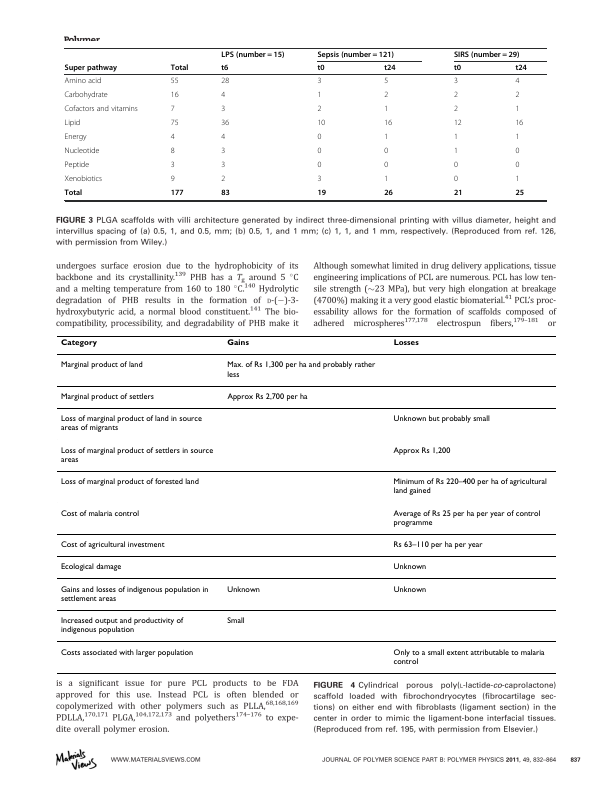borderless: (56, 334, 556, 673), (63, 46, 546, 200)
cell: (59, 446, 214, 465), (392, 477, 547, 496), (392, 648, 545, 667), (226, 361, 376, 380), (59, 585, 209, 604), (392, 509, 541, 528), (59, 414, 202, 433), (59, 616, 184, 635), (59, 477, 199, 487), (59, 648, 194, 658), (59, 540, 165, 550), (392, 414, 490, 424), (59, 392, 154, 402), (392, 540, 483, 550), (226, 392, 308, 402), (59, 509, 140, 519), (59, 361, 143, 370), (64, 104, 139, 114), (316, 50, 395, 59), (453, 50, 520, 59), (392, 446, 451, 456), (220, 50, 285, 59), (59, 563, 122, 572), (64, 63, 118, 73), (64, 90, 109, 100), (64, 174, 103, 184), (64, 76, 102, 86), (64, 146, 100, 156), (392, 585, 427, 595), (59, 339, 97, 348), (226, 585, 260, 595), (392, 563, 427, 572), (64, 160, 90, 170), (392, 339, 419, 348), (64, 132, 87, 142), (226, 339, 249, 348), (226, 616, 245, 626), (170, 63, 189, 73), (64, 188, 83, 198), (64, 118, 81, 128), (383, 63, 397, 73), (514, 63, 528, 73), (170, 188, 184, 198), (220, 188, 231, 198), (316, 188, 327, 198), (383, 188, 394, 198), (514, 188, 525, 198), (220, 76, 230, 86), (220, 118, 230, 128), (316, 118, 326, 128), (383, 118, 393, 128), (453, 118, 463, 128), (514, 118, 524, 128), (453, 188, 463, 198), (220, 63, 229, 73), (316, 63, 325, 73), (453, 63, 462, 73), (170, 76, 179, 86), (170, 90, 179, 100), (170, 118, 179, 128), (316, 76, 322, 86), (383, 76, 389, 86), (453, 76, 459, 86), (514, 76, 520, 86), (220, 90, 226, 100), (316, 90, 322, 100), (383, 90, 389, 100), (453, 90, 459, 100), (514, 90, 520, 100), (170, 104, 176, 114), (220, 104, 226, 114), (316, 104, 322, 114), (383, 104, 389, 114), (453, 104, 459, 114), (514, 104, 520, 114), (170, 132, 176, 142), (220, 132, 226, 142), (316, 132, 322, 142), (383, 132, 389, 142), (453, 132, 459, 142), (514, 132, 520, 142), (170, 146, 176, 156), (220, 146, 226, 156), (316, 146, 322, 156), (383, 146, 389, 156), (453, 146, 459, 156), (514, 146, 520, 156), (170, 160, 176, 170), (220, 160, 226, 170), (316, 160, 322, 170), (383, 160, 389, 170), (453, 160, 459, 170), (514, 160, 520, 170), (170, 174, 176, 184), (220, 174, 226, 184), (316, 174, 322, 184), (383, 174, 389, 184), (453, 174, 459, 184), (514, 174, 520, 184)
